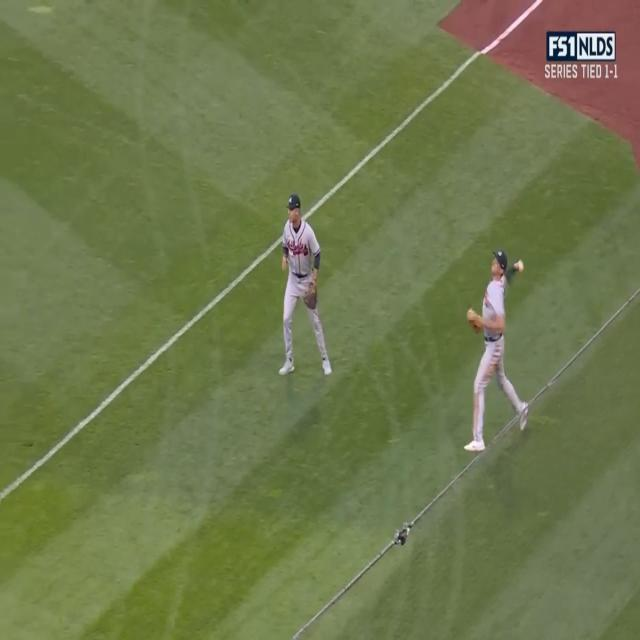baseball: (518, 260, 524, 269)
